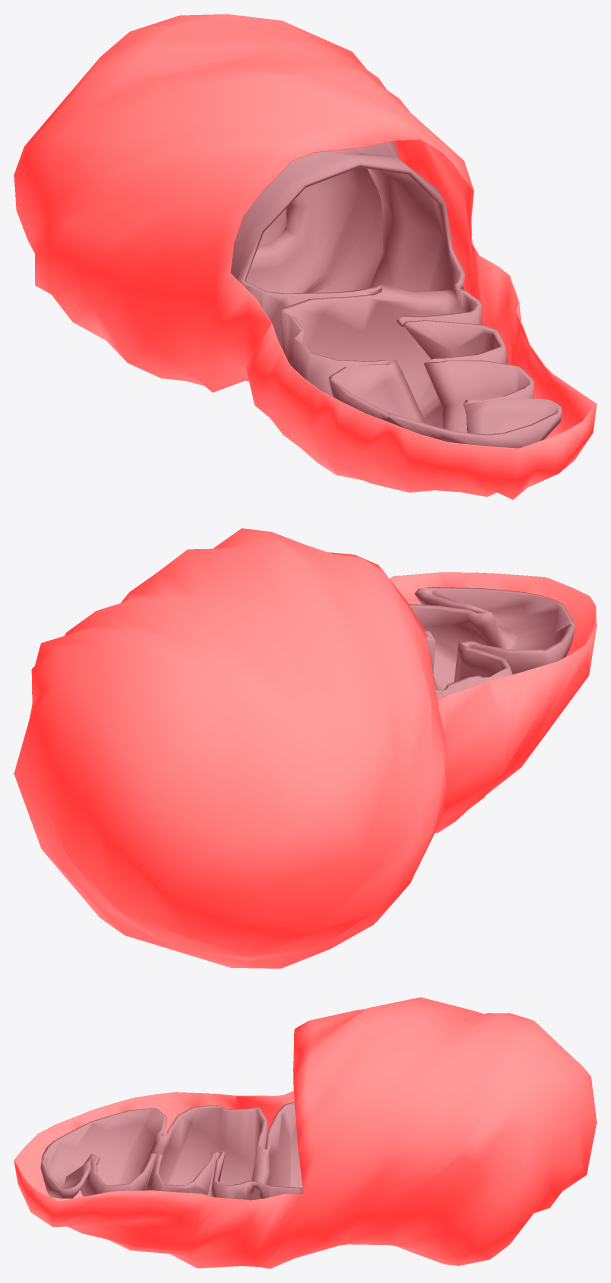
The model's file is MitochondrionSlice.FBX.
3 views of the same model, one above another, from view 1: azimuth 30°, elevation 25°; view 2: azimuth 150°, elevation 25°; view 3: azimuth 270°, elevation 25° (orthographic). The views are drawn at different scales.
Visible parts, largest first — view 1: MitochondrionSliceOuterMembrane, MitochondrionSliceInnerMembrane; view 2: MitochondrionSliceOuterMembrane, MitochondrionSliceInnerMembrane; view 3: MitochondrionSliceOuterMembrane, MitochondrionSliceInnerMembrane.
Boxes of the visible parts, bbox=[...] form: MitochondrionSliceOuterMembrane: bbox=[14, 14, 596, 499]; MitochondrionSliceInnerMembrane: bbox=[230, 141, 562, 448]; MitochondrionSliceOuterMembrane: bbox=[14, 528, 596, 968]; MitochondrionSliceInnerMembrane: bbox=[256, 587, 575, 764]; MitochondrionSliceOuterMembrane: bbox=[14, 997, 596, 1268]; MitochondrionSliceInnerMembrane: bbox=[40, 1102, 303, 1200].
Size of the model in its own units: 12.12 by 10.93 by 23.46.
